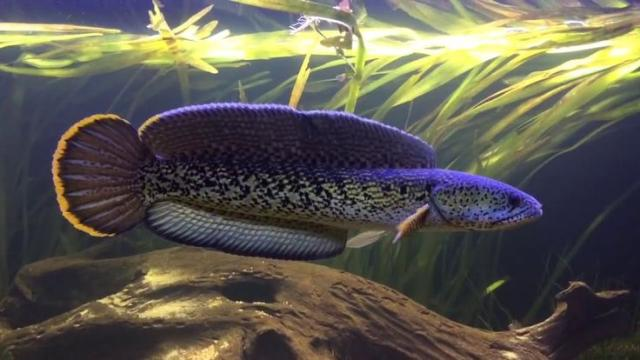Mulut: (476, 199, 550, 235)
Sirip Anal: (142, 197, 350, 263)
Sirip Dada: (390, 201, 436, 249)
Sirip Ekor: (43, 106, 149, 246)
Sirip Punggung: (132, 101, 436, 173)
